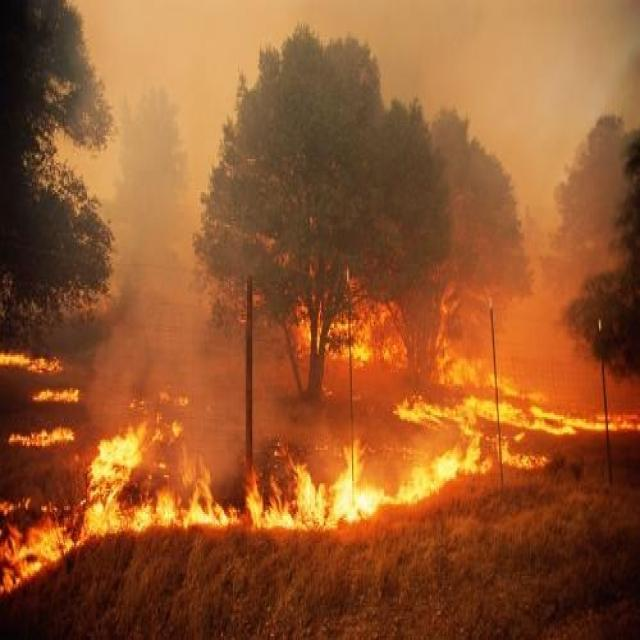Fire: (1, 284, 640, 596)
Smoke: (84, 1, 640, 498)
